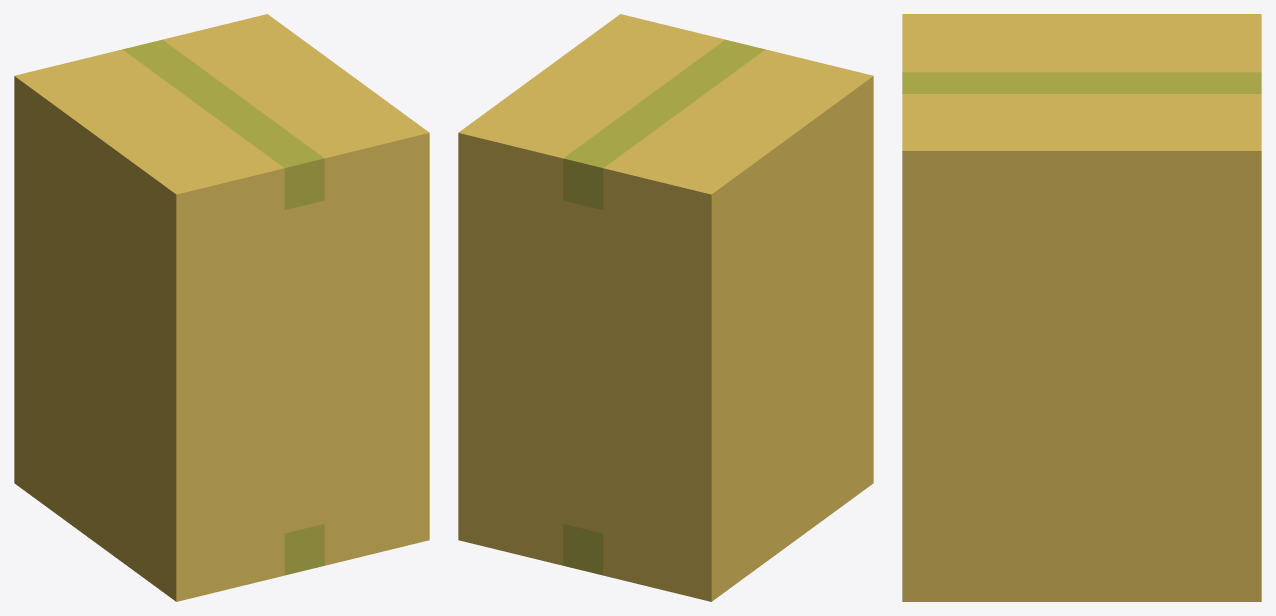
The picture shows the model from 3 angles, left to right: view 1: azimuth 30°, elevation 25°; view 2: azimuth 150°, elevation 25°; view 3: azimuth 270°, elevation 25°; orthographic projection. The views are drawn at different scales.
Visible parts, largest first — view 1: Box3; view 2: Box3; view 3: Box3.
Boxes of the visible parts, x1=… form: Box3: x1=14, y1=14, x2=429, y2=601; Box3: x1=458, y1=14, x2=873, y2=601; Box3: x1=902, y1=14, x2=1261, y2=601.
Bounding box in the file's own units: 8.2 × 12.6 × 9.1.
